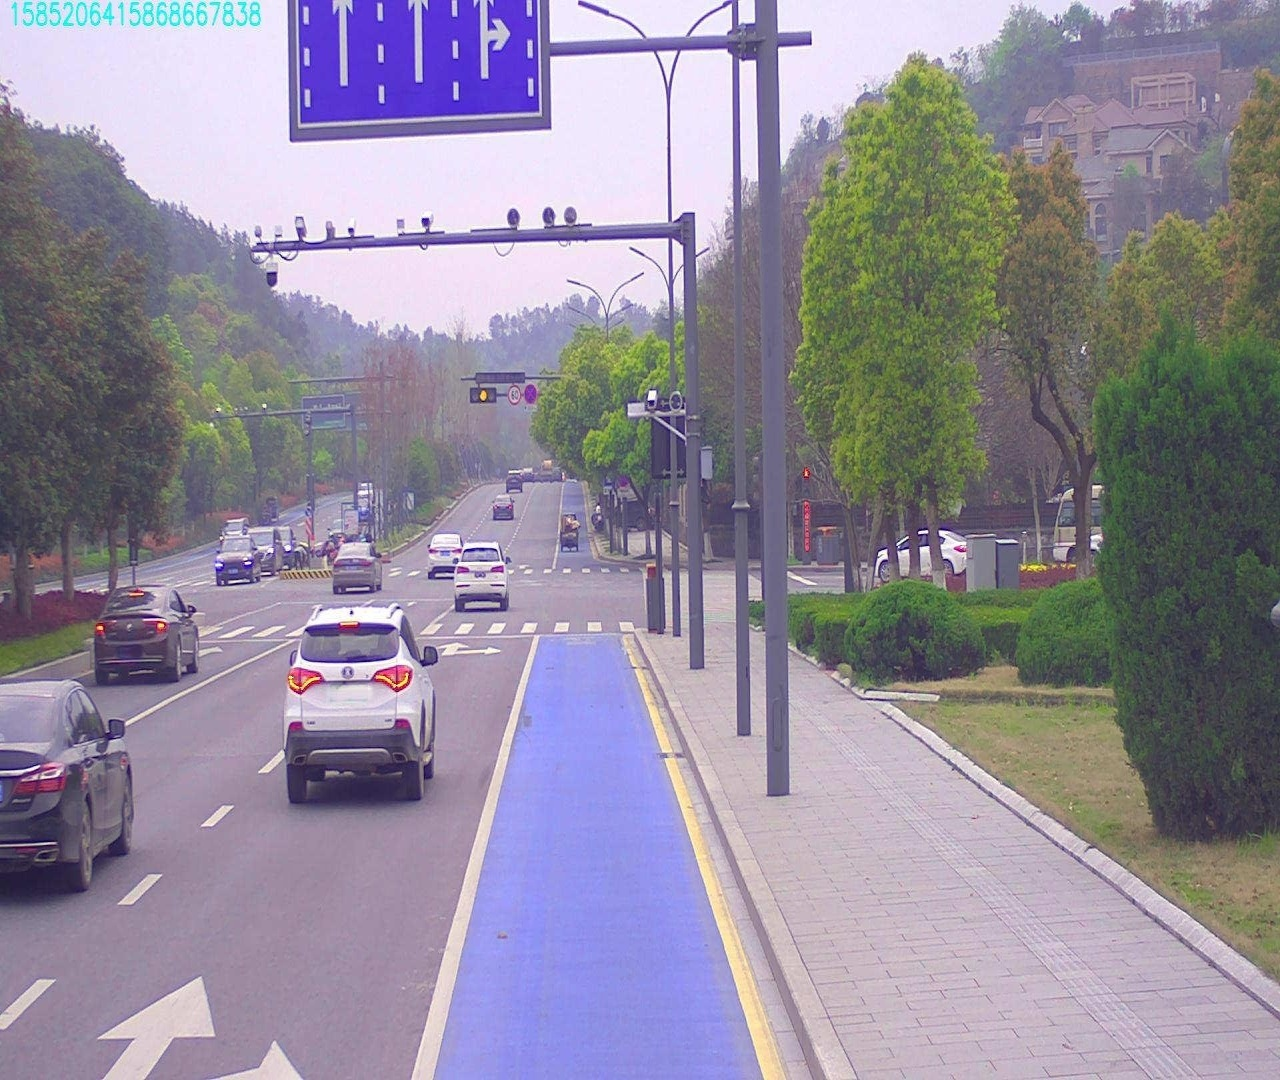yellow: (469, 384, 502, 405)
